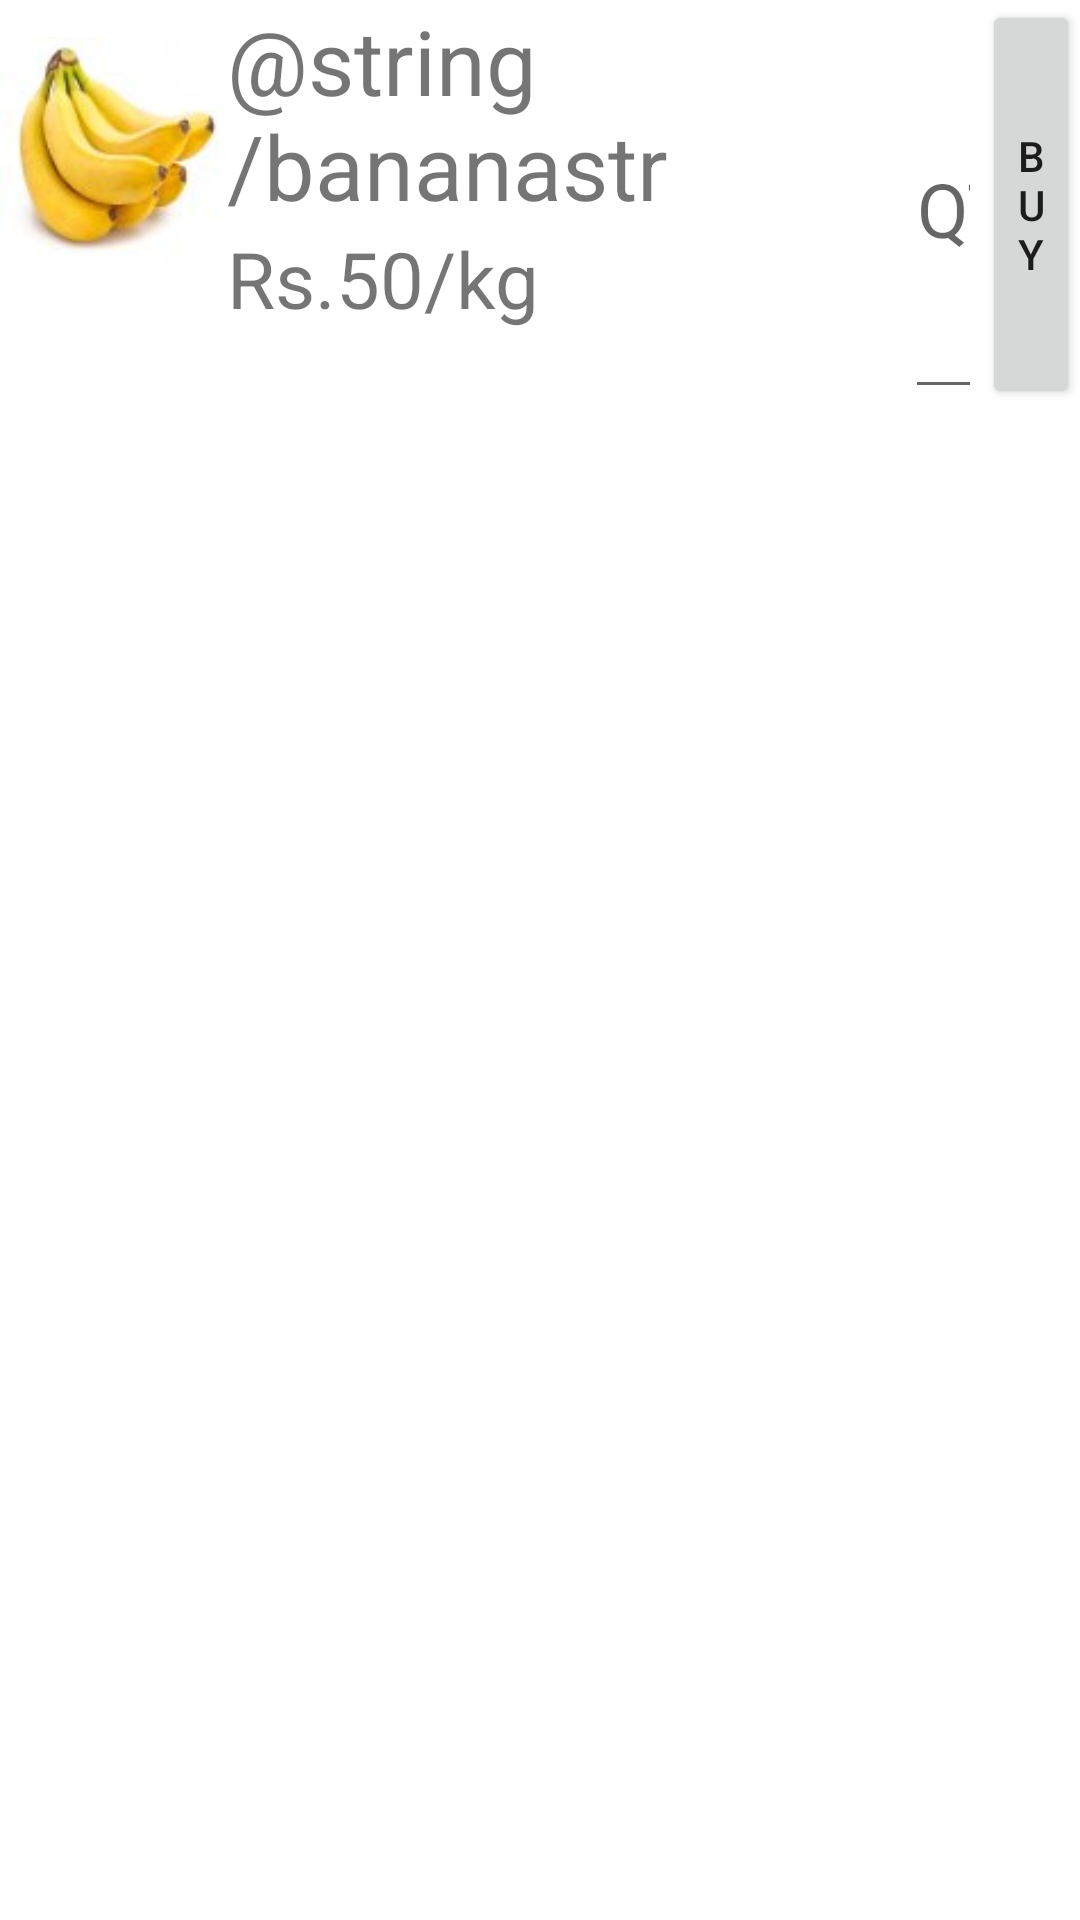

Locate icon controls on the screen. Image size 1080 × 1920, boxes as [x1,y1,x2,y2].
sampban: [18,47,216,249]
